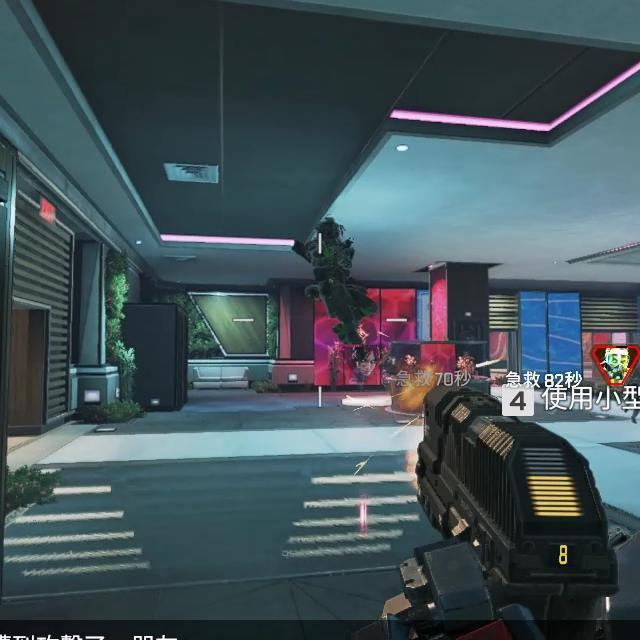avatar: (288, 216, 380, 348)
